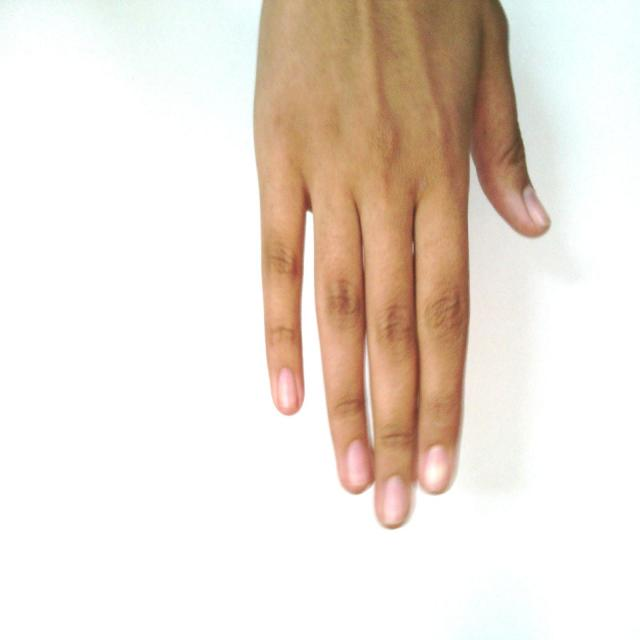others: (181, 1, 562, 548)
